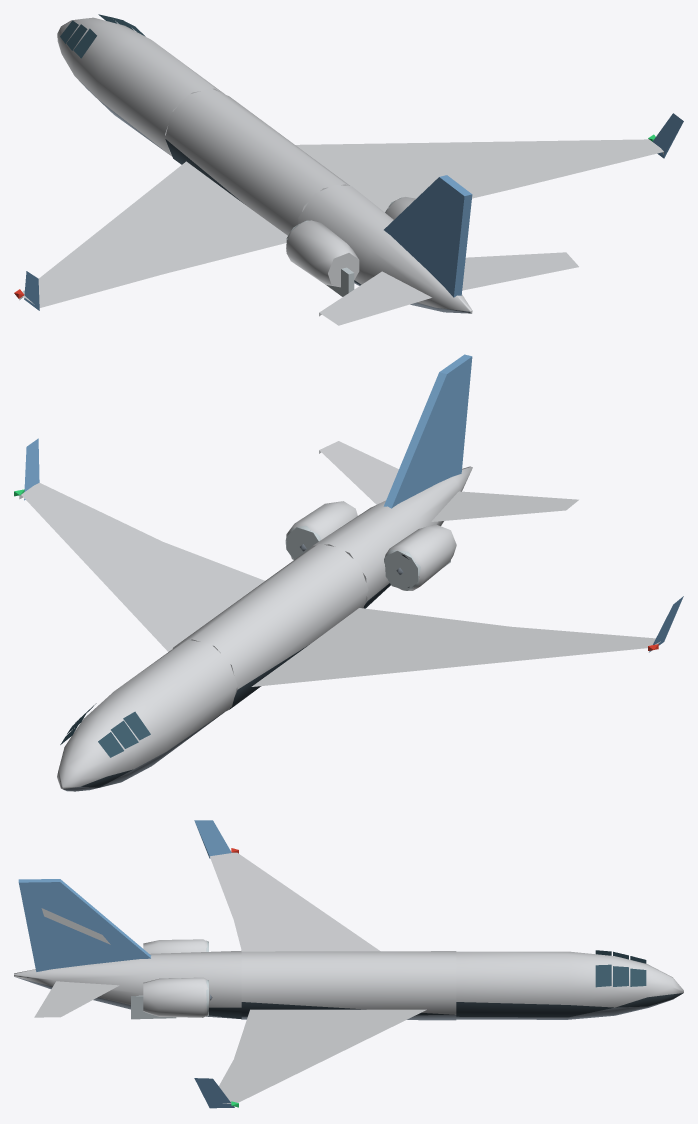
File: vela-lod1.glb
3 views of the same model, one above another, from view 1: azimuth 30°, elevation 25°; view 2: azimuth 150°, elevation 25°; view 3: azimuth 270°, elevation 25° (orthographic). The views are drawn at different scales.
Parts seen in each view (by area): view 1: distant_airframe; view 2: distant_airframe; view 3: distant_airframe.
Part boxes in pixels (box(x1,y1,x2,y2)): distant_airframe: box(14, 14, 683, 325); distant_airframe: box(14, 354, 683, 791); distant_airframe: box(14, 820, 683, 1108).
Size of the model in its own units: 17.34 by 4.28 by 19.
